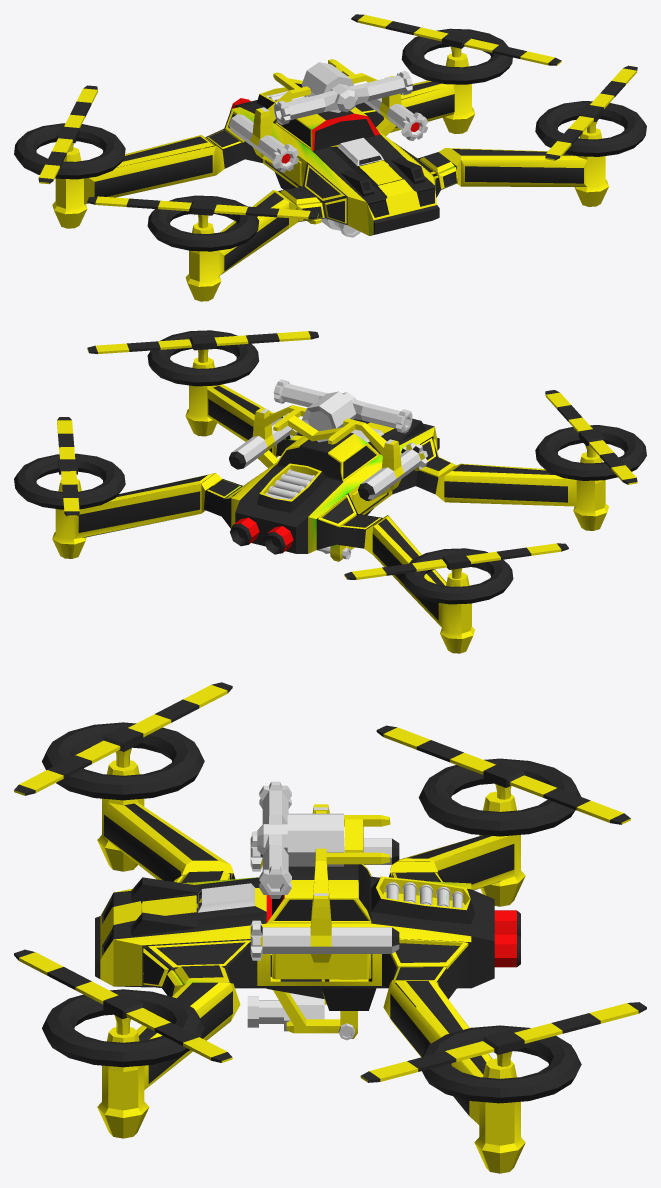
Rendered from drone_model2.gltf.
The picture shows the model from 3 angles, top to bottom: view 1: azimuth 30°, elevation 25°; view 2: azimuth 150°, elevation 25°; view 3: azimuth 270°, elevation 25°; orthographic projection. The views are drawn at different scales.
Parts seen in each view (by area): view 1: drone_costum, propeller_4, propeller_2, propeller_1, propeller_3; view 2: drone_costum, propeller_1, propeller_3, propeller_4, propeller_2; view 3: drone_costum, propeller_2, propeller_3, propeller_1, propeller_4.
Boxes of the visible parts, x1,y1,x2,y2 form: drone_costum: [14, 28, 646, 301]; propeller_4: [87, 196, 318, 219]; propeller_2: [351, 14, 561, 65]; propeller_1: [545, 65, 637, 160]; propeller_3: [38, 85, 97, 183]; drone_costum: [14, 330, 646, 653]; propeller_1: [87, 331, 318, 353]; propeller_3: [344, 543, 568, 579]; propeller_4: [545, 390, 637, 484]; propeller_2: [57, 417, 79, 516]; drone_costum: [42, 722, 581, 1173]; propeller_2: [360, 1002, 646, 1082]; propeller_3: [376, 725, 630, 824]; propeller_1: [14, 949, 232, 1062]; propeller_4: [14, 682, 232, 795].
Size of the model in its own units: 12.4 by 3.35 by 8.76.
